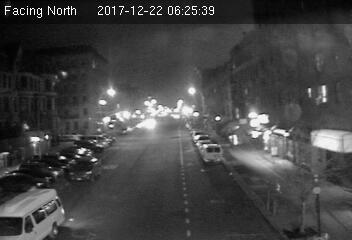car: (68, 157, 100, 181)
truck: (1, 186, 71, 239), (200, 144, 223, 162)
